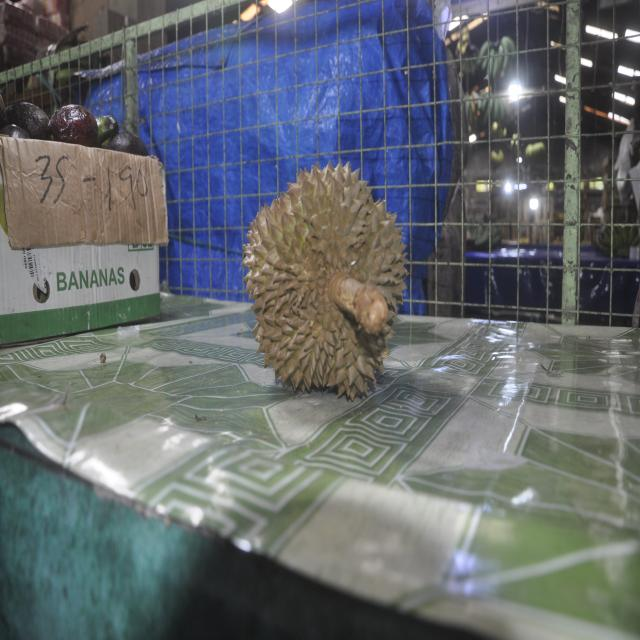mature: (243, 162, 407, 400)
